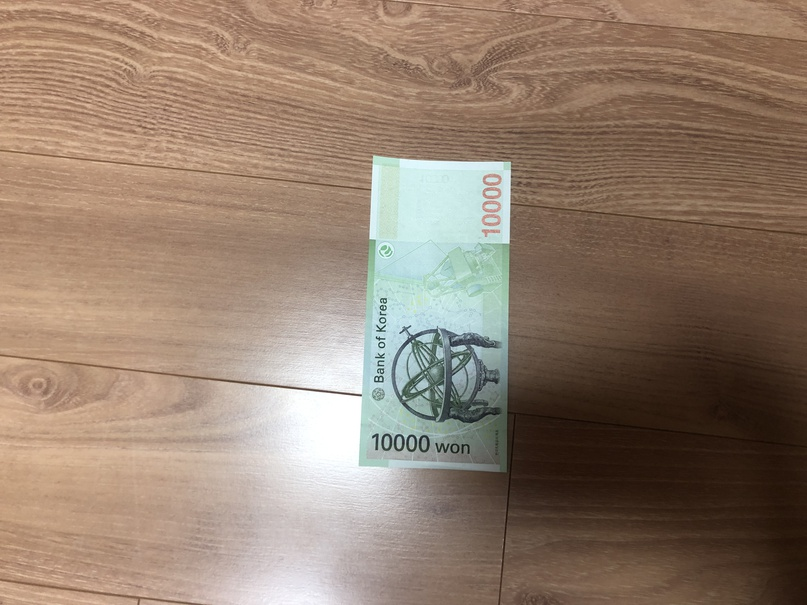10000won: (359, 154, 510, 474)
